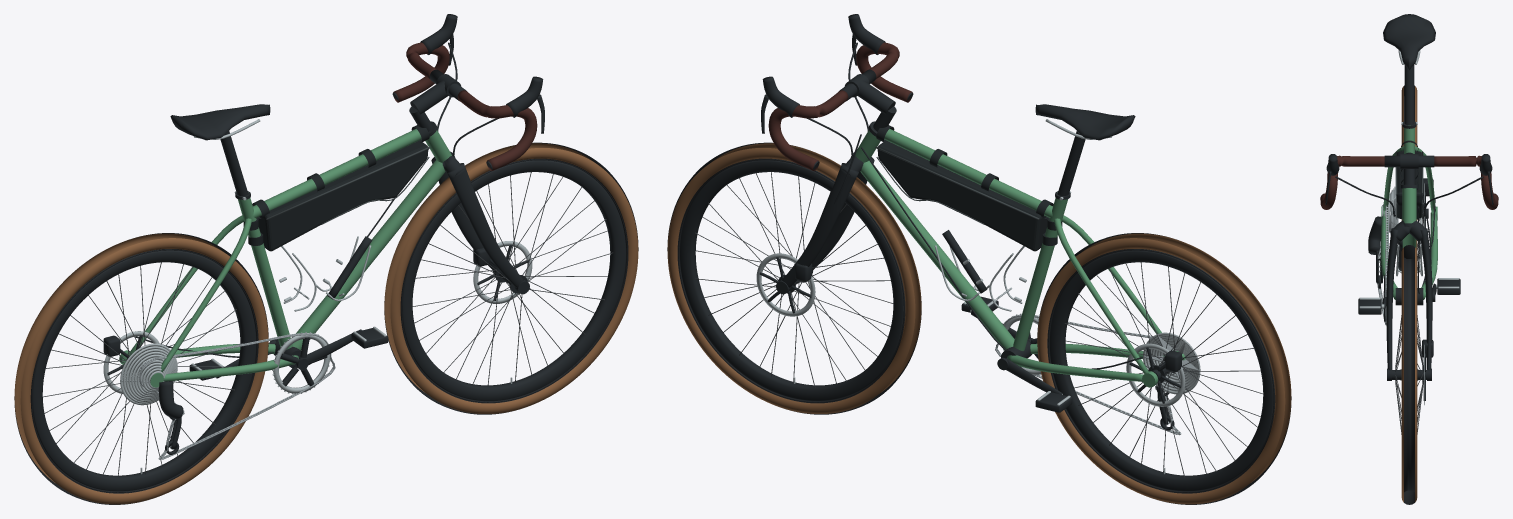
File: RAIL_Wichelsee_blockout.glb
3 views of the same model, side by side, from view 1: azimuth 30°, elevation 25°; view 2: azimuth 150°, elevation 25°; view 3: azimuth 270°, elevation 25° (orthographic). The views are drawn at different scales.
Visible parts, largest first — view 1: Wheel_Front, Wheel_Rear, Frame, Frame bag, Handlebar, Fork, Cassette, Saddle, Controls, Drivetrain, Chain, Cockpit (+7 smaller); view 2: Wheel_Rear, Wheel_Front, Frame, Frame bag, Handlebar, Fork, Saddle, Cassette, Controls, Brake_Front, Brake_Rear, Cockpit (+6 smaller); view 3: Wheel_Front, Frame, Fork, Handlebar, Saddle, Cockpit, Frame bag, Pedal, Seatpost, Cables, Controls, Derailleur (+5 smaller).
Boxes of the visible parts, x1,y1,x2,y2 form: Wheel_Front: (384, 142, 638, 414); Wheel_Rear: (14, 233, 268, 504); Frame: (119, 129, 451, 387); Frame bag: (243, 125, 430, 251); Handlebar: (392, 42, 537, 171); Fork: (431, 156, 529, 294); Cassette: (120, 343, 177, 405); Saddle: (170, 104, 270, 140); Controls: (420, 14, 544, 133); Drivetrain: (272, 332, 330, 394); Chain: (138, 333, 335, 459); Cockpit: (409, 69, 467, 131); Wheel_Rear: (1037, 233, 1291, 504); Wheel_Front: (667, 142, 921, 414); Frame: (855, 129, 1185, 387); Frame bag: (875, 125, 1062, 251); Handlebar: (768, 42, 913, 171); Fork: (776, 156, 874, 294); Saddle: (1035, 104, 1135, 140); Cassette: (1143, 332, 1200, 394); Controls: (761, 14, 885, 133); Brake_Front: (756, 253, 815, 316); Brake_Rear: (1126, 343, 1185, 406); Cockpit: (838, 69, 896, 131); Wheel_Front: (1392, 245, 1426, 504); Frame: (1381, 125, 1437, 305); Fork: (1386, 220, 1432, 380); Handlebar: (1320, 155, 1498, 209); Saddle: (1383, 14, 1435, 70); Cockpit: (1384, 152, 1434, 184); Frame bag: (1395, 140, 1423, 218); Pedal: (1358, 278, 1460, 314); Seatpost: (1401, 65, 1417, 128); Cables: (1335, 176, 1483, 293); Controls: (1325, 154, 1493, 204); Derailleur: (1368, 216, 1382, 288).
Size of the model in its own units: 1.76 by 1.01 by 0.4889.
